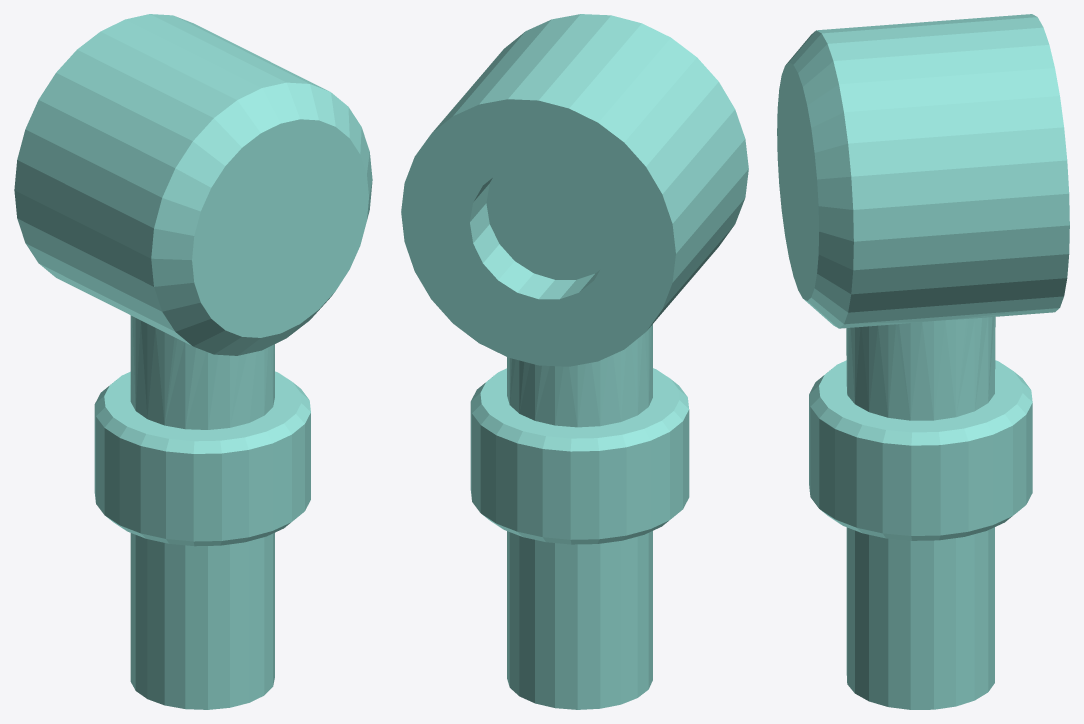
The model's file is Mars6Mars_Rover__Curiosity_1_0__-_15__Arm_Axle-2.001.dae.
3 renders of one model, left to right at view 1: azimuth 30°, elevation 25°; view 2: azimuth 150°, elevation 25°; view 3: azimuth 270°, elevation 25°, orthographic. The views are drawn at different scales.
Parts seen in each view (by area): view 1: tmp_export_Mars6Mars_Rover__Curiosity_1_0__-_15__Arm_Axle-2.; view 2: tmp_export_Mars6Mars_Rover__Curiosity_1_0__-_15__Arm_Axle-2.; view 3: tmp_export_Mars6Mars_Rover__Curiosity_1_0__-_15__Arm_Axle-2..
Part boxes in pixels (x1,y1,x2,y2): tmp_export_Mars6Mars_Rover__Curiosity_1_0__-_15__Arm_Axle-2.: (14,14,372,709); tmp_export_Mars6Mars_Rover__Curiosity_1_0__-_15__Arm_Axle-2.: (401,14,748,709); tmp_export_Mars6Mars_Rover__Curiosity_1_0__-_15__Arm_Axle-2.: (777,14,1069,709).
Bounding box in the file's own units: 0.3026 × 0.266 × 0.6432.
